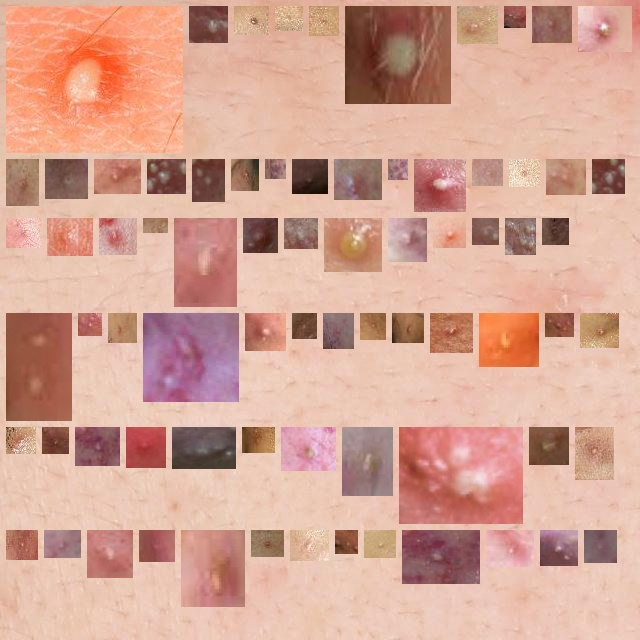pustule: (14, 14, 175, 145), (407, 435, 515, 516), (353, 14, 443, 96), (151, 321, 231, 394), (14, 321, 64, 413), (182, 226, 229, 299), (189, 538, 237, 603), (410, 538, 472, 576), (350, 435, 385, 488), (487, 321, 531, 359), (332, 226, 374, 264), (422, 167, 458, 204), (180, 435, 228, 461), (586, 14, 624, 44), (289, 435, 328, 463), (95, 538, 125, 570), (583, 435, 606, 472), (342, 167, 374, 192), (494, 538, 526, 559), (83, 435, 112, 458), (55, 226, 85, 248), (53, 167, 80, 191), (438, 321, 465, 345), (396, 226, 419, 254), (134, 435, 158, 460), (102, 167, 133, 186), (465, 14, 490, 36), (253, 321, 278, 343), (537, 435, 561, 457), (14, 167, 31, 198), (540, 14, 564, 35), (197, 14, 220, 35), (554, 167, 578, 187), (107, 226, 129, 247), (200, 167, 217, 194), (548, 538, 570, 558), (155, 167, 178, 186), (588, 321, 611, 340), (300, 167, 320, 186), (251, 226, 270, 245), (298, 538, 321, 553), (600, 167, 617, 186), (147, 538, 167, 554), (513, 226, 528, 247), (331, 321, 346, 341), (592, 538, 609, 555), (292, 226, 310, 241), (14, 226, 33, 240), (52, 538, 73, 550), (242, 14, 261, 27), (441, 226, 458, 240), (400, 321, 416, 335), (14, 538, 30, 552), (317, 14, 331, 28), (239, 167, 251, 183), (372, 538, 388, 550), (259, 538, 276, 549), (116, 321, 129, 335), (517, 167, 532, 179), (250, 435, 267, 445), (480, 167, 495, 178), (14, 435, 28, 446), (480, 226, 491, 237), (550, 226, 561, 237), (50, 435, 61, 446), (368, 321, 378, 332), (283, 14, 295, 23), (553, 321, 566, 329), (300, 321, 309, 331), (86, 321, 94, 328), (343, 538, 350, 546), (512, 14, 518, 20), (273, 167, 278, 171), (396, 167, 400, 172)
